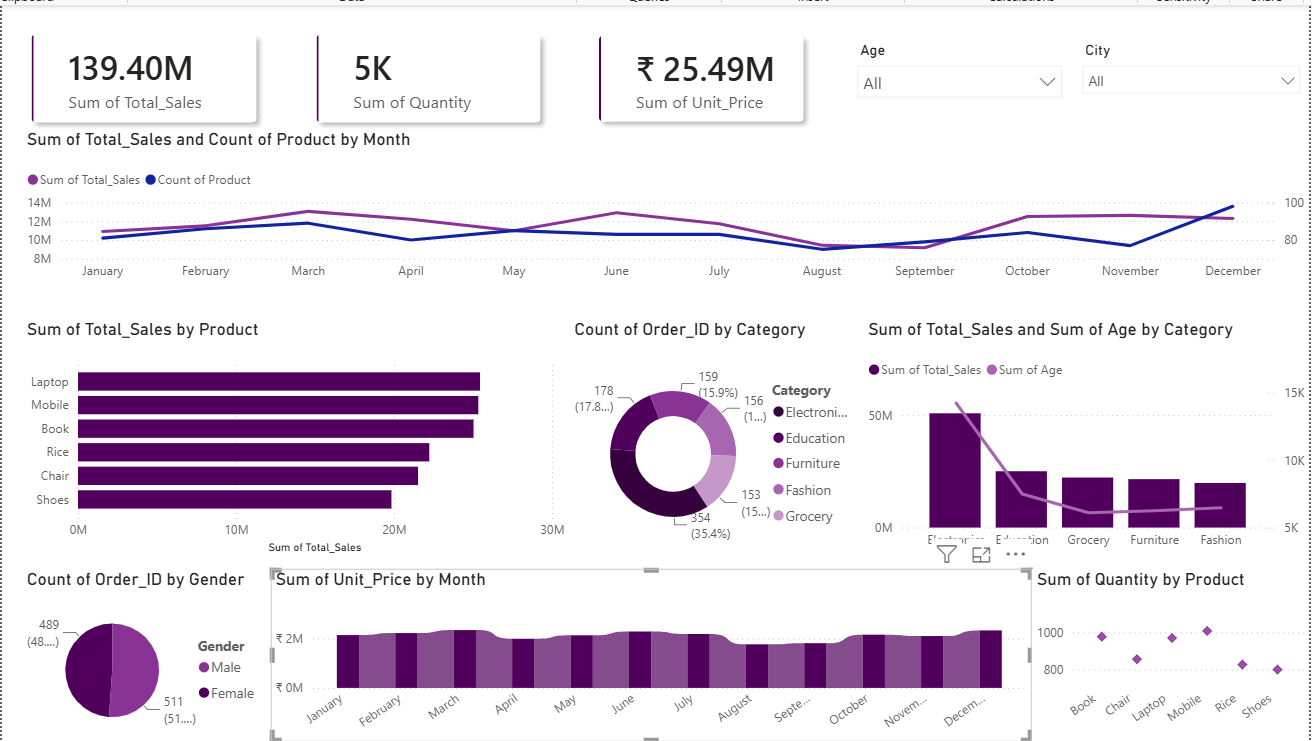

The page's visual inventory and layout, read from the dashboard file:
{"tool":"powerbi","page":{"name":"Page 1","canvas":[1280,720],"ordinal":0},"visuals":[{"type":"cardVisual","title":"Total Sales","fields":{"Data":["Sum(Sales_Dataset.Total_Sales)"]},"box":[0,0,278.6,144.3],"z":0},{"type":"cardVisual","fields":{"Data":["Sum(Sales_Dataset.Quantity)"]},"box":[278.6,0,277.1,144.3],"z":1000},{"type":"cardVisual","fields":{"Data":["Sum(Sales_Dataset.Unit_Price)"]},"box":[555.7,1.4,258.6,142.9],"z":2000},{"type":"barChart","fields":{"Category":["Sales_Dataset.Product"],"Y":["Sum(Sales_Dataset.Total_Sales)"]},"box":[20,307.1,535.7,234.3],"z":4000},{"type":"lineStackedColumnComboChart","fields":{"Y":["Sum(Sales_Dataset.Total_Sales)"],"Category":["Sales_Dataset.Category"],"Y2":["Sum(Sales_Dataset.Age)"]},"box":[842.9,307.1,437.1,234.3],"z":5000},{"type":"donutChart","fields":{"Category":["Sales_Dataset.Category"],"Y":["CountNonNull(Sales_Dataset.Order_ID)"]},"box":[555.7,307.1,287.1,234.3],"z":6000},{"type":"pieChart","fields":{"Category":["Sales_Dataset.Gender"],"Y":["CountNonNull(Sales_Dataset.Order_ID)"]},"box":[20,551.4,242.9,168.6],"z":7000},{"type":"ribbonChart","fields":{"Category":["Sales_Dataset.Order_Date.Variation.Date Hierarchy.Month"],"Y":["Sum(Sales_Dataset.Unit_Price)"]},"box":[262.9,551.4,744.3,168.6],"z":8000},{"type":"scatterChart","fields":{"X":["Sales_Dataset.Product"],"Y":["Sum(Sales_Dataset.Quantity)"]},"box":[1007.1,551.4,272.9,168.6],"z":9000},{"type":"lineChart","fields":{"Category":["Sales_Dataset.Order_Date.Variation.Date Hierarchy.Month"],"Y":["Sum(Sales_Dataset.Total_Sales)"],"Y2":["CountNonNull(Sales_Dataset.Product)"]},"box":[20,121.4,1260,157.1],"z":10000},{"type":"slicer","fields":{"Values":["Sales_Dataset.Age"]},"box":[826.6,30.6,220.1,90.5],"z":11000},{"type":"slicer","fields":{"Values":["Sales_Dataset.City"]},"box":[1046.7,30.6,233.6,73.4],"z":11001}]}

Visuals, with their boxes on the page's 1280x720 design canvas (x1, y1, x2, y2). These are canvas units, not pixel positions in the 1312x741 screenshot, which may show the page scaled, cropped or inside an application window:
"Total Sales" cardVisual: (x1=0, y1=0, x2=279, y2=144)
cardVisual - Sum(Sales_Dataset.Quantity): (x1=279, y1=0, x2=556, y2=144)
cardVisual - Sum(Sales_Dataset.Unit_Price): (x1=556, y1=1, x2=814, y2=144)
barChart - Sales_Dataset.Product x Sum(Sales_Dataset.Total_Sales): (x1=20, y1=307, x2=556, y2=541)
lineStackedColumnComboChart - Sum(Sales_Dataset.Total_Sales) x Sales_Dataset.Category: (x1=843, y1=307, x2=1280, y2=541)
donutChart - Sales_Dataset.Category x CountNonNull(Sales_Dataset.Order_ID): (x1=556, y1=307, x2=843, y2=541)
pieChart - Sales_Dataset.Gender x CountNonNull(Sales_Dataset.Order_ID): (x1=20, y1=551, x2=263, y2=720)
ribbonChart - Sales_Dataset.Order_Date.Variation.Date Hierarchy.Month x Sum(Sales_Dataset.Unit_Price): (x1=263, y1=551, x2=1007, y2=720)
scatterChart - Sales_Dataset.Product x Sum(Sales_Dataset.Quantity): (x1=1007, y1=551, x2=1280, y2=720)
lineChart - Sales_Dataset.Order_Date.Variation.Date Hierarchy.Month x Sum(Sales_Dataset.Total_Sales): (x1=20, y1=121, x2=1280, y2=278)
slicer - Sales_Dataset.Age: (x1=827, y1=31, x2=1047, y2=121)
slicer - Sales_Dataset.City: (x1=1047, y1=31, x2=1280, y2=104)
